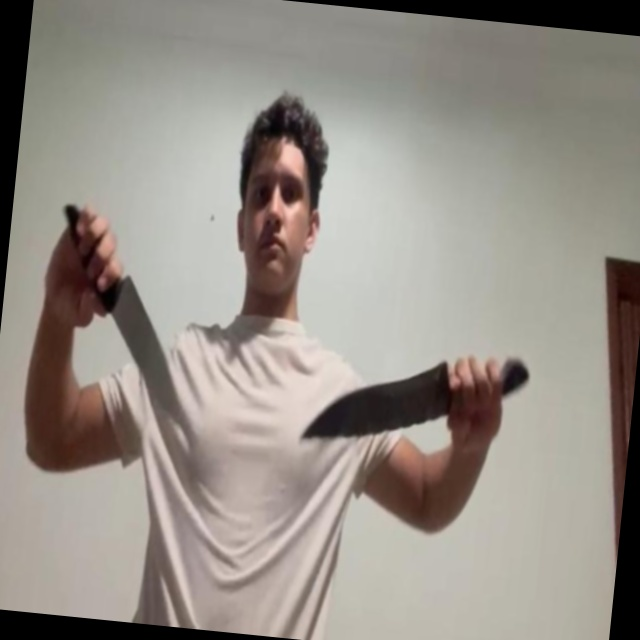Sharp-Object: (303, 346, 451, 451), (106, 270, 191, 412)
